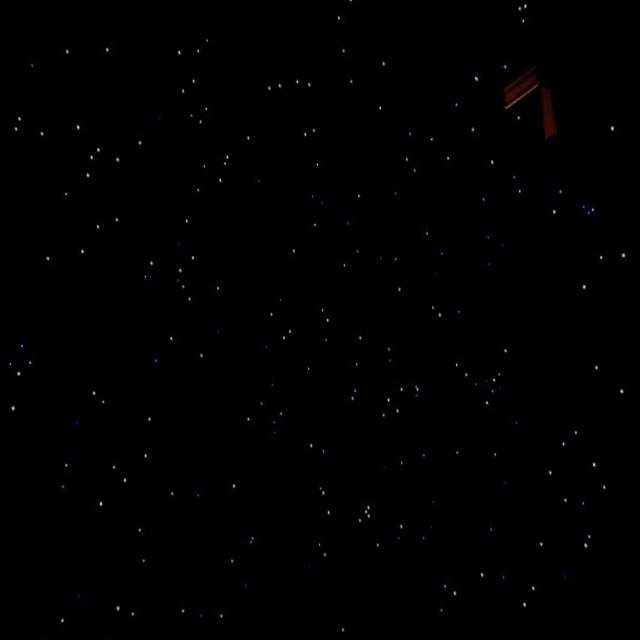medium_debris: (486, 29, 598, 153)
